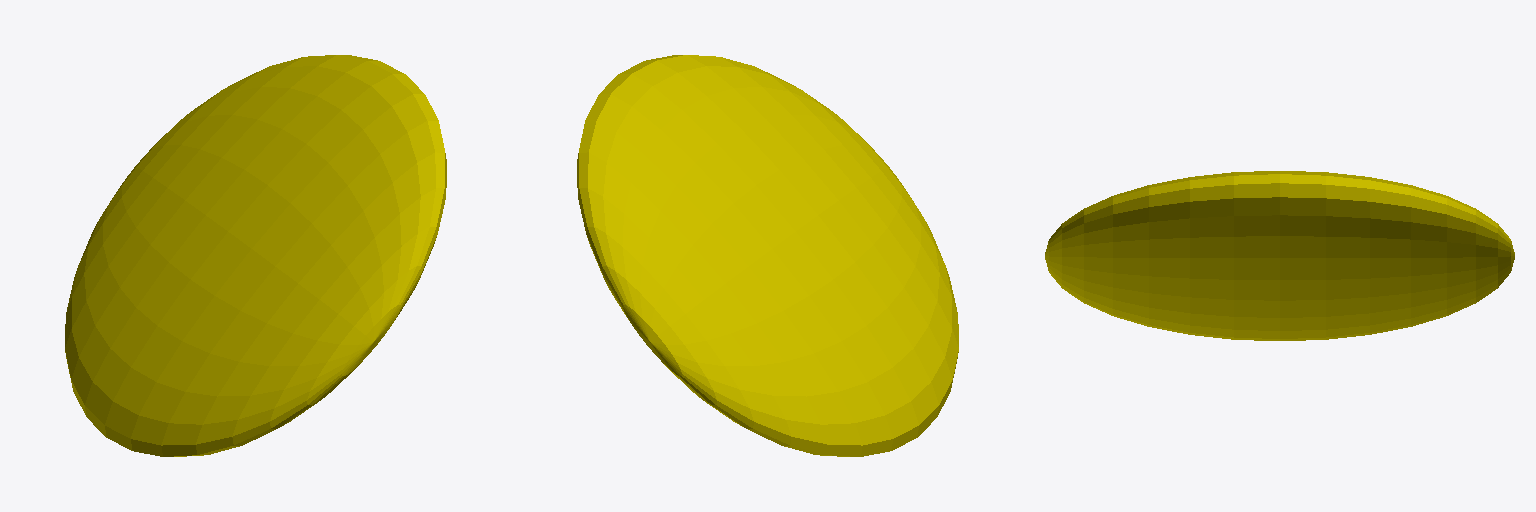
The model's file is coin002.obj.
The picture shows the model from 3 angles: view 1: azimuth 30°, elevation 25°; view 2: azimuth 150°, elevation 25°; view 3: azimuth 270°, elevation 25°; orthographic projection.
Parts seen in each view (by area): view 1: Coin.002_Sphere.001; view 2: Coin.002_Sphere.001; view 3: Coin.002_Sphere.001.
Part boxes in pixels (left/top/right/bottom): Coin.002_Sphere.001: left=65, top=55, right=446, bottom=456; Coin.002_Sphere.001: left=577, top=55, right=958, bottom=456; Coin.002_Sphere.001: left=1045, top=171, right=1514, bottom=340.
Size of the model in its own units: 0.7417 by 0.6966 by 1.